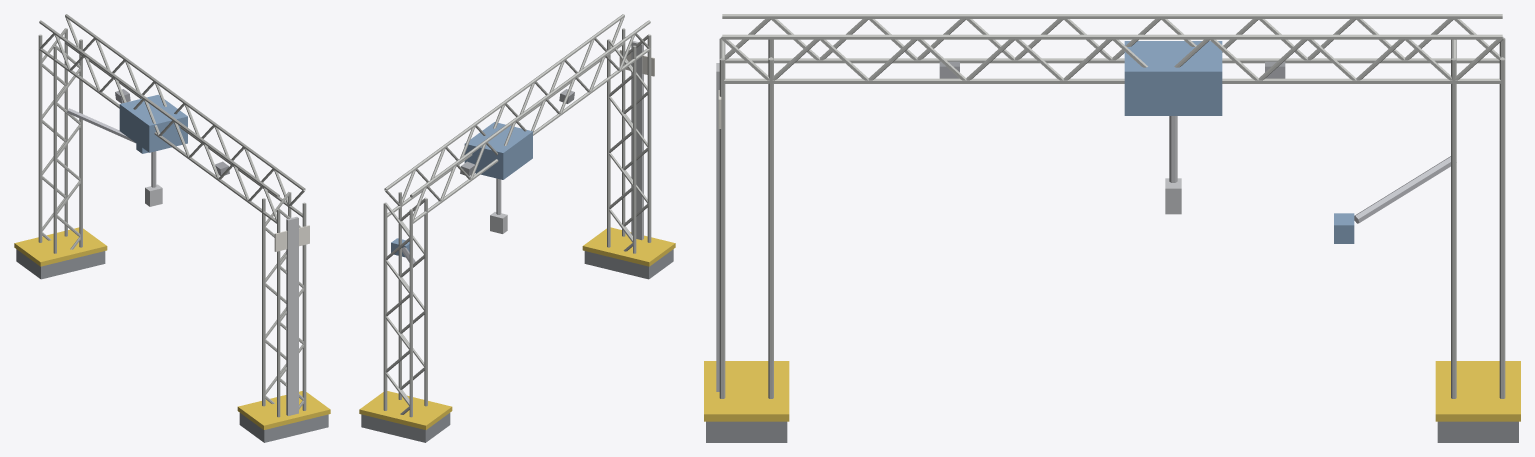
Rendered from maintenance_gantry.glb.
3 renders of one model, left to right at view 1: azimuth 30°, elevation 25°; view 2: azimuth 150°, elevation 25°; view 3: azimuth 270°, elevation 25°, orthographic. The views are drawn at different scales.
Visible parts, largest first — view 1: cross, leg_p, leg_s, trolley, ladder, foot_p_hz, foot_s_hz, foot_p, foot_s, plate, toolboom_p, hook; view 2: cross, leg_p, leg_s, trolley, foot_p_hz, foot_s_hz, ladder, foot_s, foot_p, hook; view 3: cross, trolley, foot_p_hz, foot_s_hz, leg_p, leg_s, foot_p, foot_s, ladder, toolboom_p.
Boxes of the visible parts, x1,y1,x2,y2 form: cross: [39, 14, 305, 223]; leg_p: [38, 28, 82, 253]; leg_s: [262, 192, 306, 417]; trolley: [119, 94, 187, 152]; ladder: [286, 216, 298, 415]; foot_p_hz: [14, 227, 107, 266]; foot_s_hz: [237, 391, 330, 429]; foot_p: [16, 249, 105, 279]; foot_s: [239, 413, 328, 442]; plate: [274, 225, 309, 251]; toolboom_p: [67, 108, 135, 143]; hook: [145, 184, 162, 206]; cross: [384, 14, 650, 223]; leg_p: [383, 192, 427, 417]; leg_s: [607, 28, 651, 253]; trolley: [464, 122, 532, 179]; foot_p_hz: [359, 391, 452, 429]; foot_s_hz: [582, 227, 675, 266]; ladder: [631, 41, 643, 240]; foot_s: [584, 249, 673, 279]; foot_p: [361, 413, 450, 442]; hook: [490, 212, 507, 233]; cross: [720, 14, 1504, 83]; trolley: [1124, 41, 1222, 115]; foot_p_hz: [1435, 361, 1520, 421]; foot_s_hz: [704, 361, 789, 421]; leg_p: [1451, 38, 1505, 398]; leg_s: [719, 38, 773, 398]; foot_p: [1437, 421, 1518, 442]; foot_s: [706, 421, 787, 442]; ladder: [716, 63, 719, 391]; toolboom_p: [1354, 156, 1450, 223].
Bounding box in the file's own units: 4 × 10.71 × 20.1.
